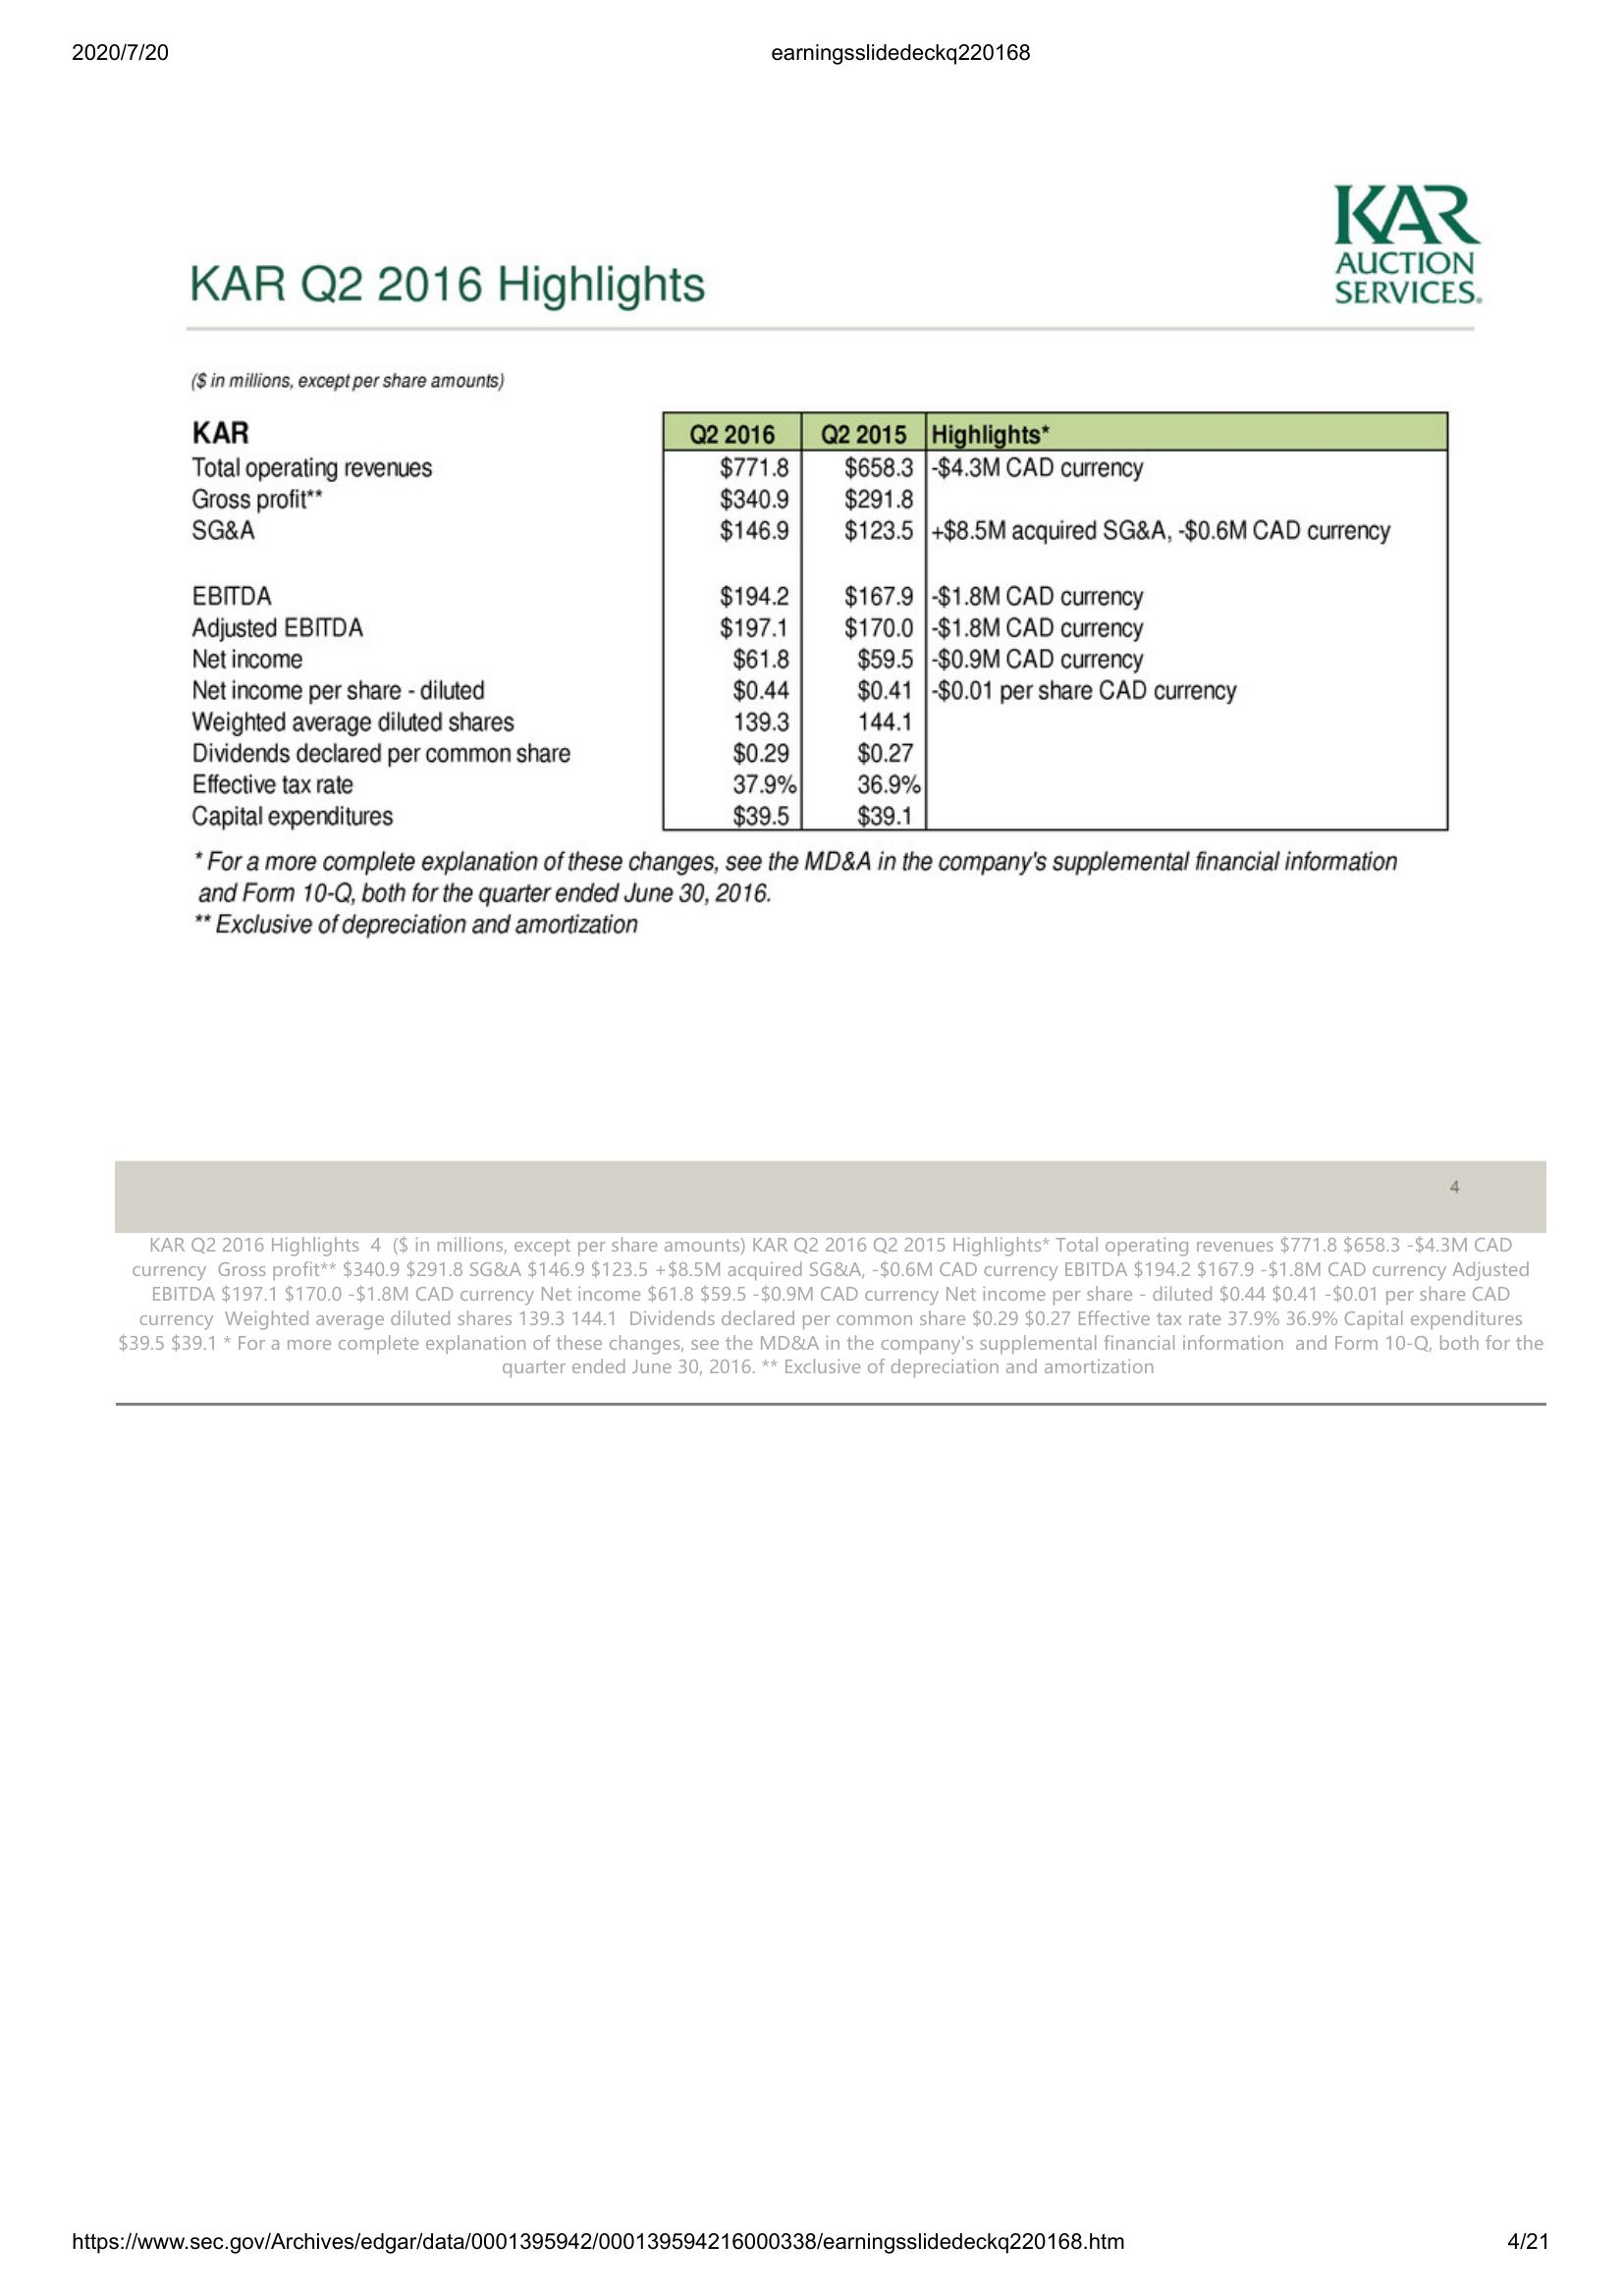table: (657, 405, 1460, 841)
